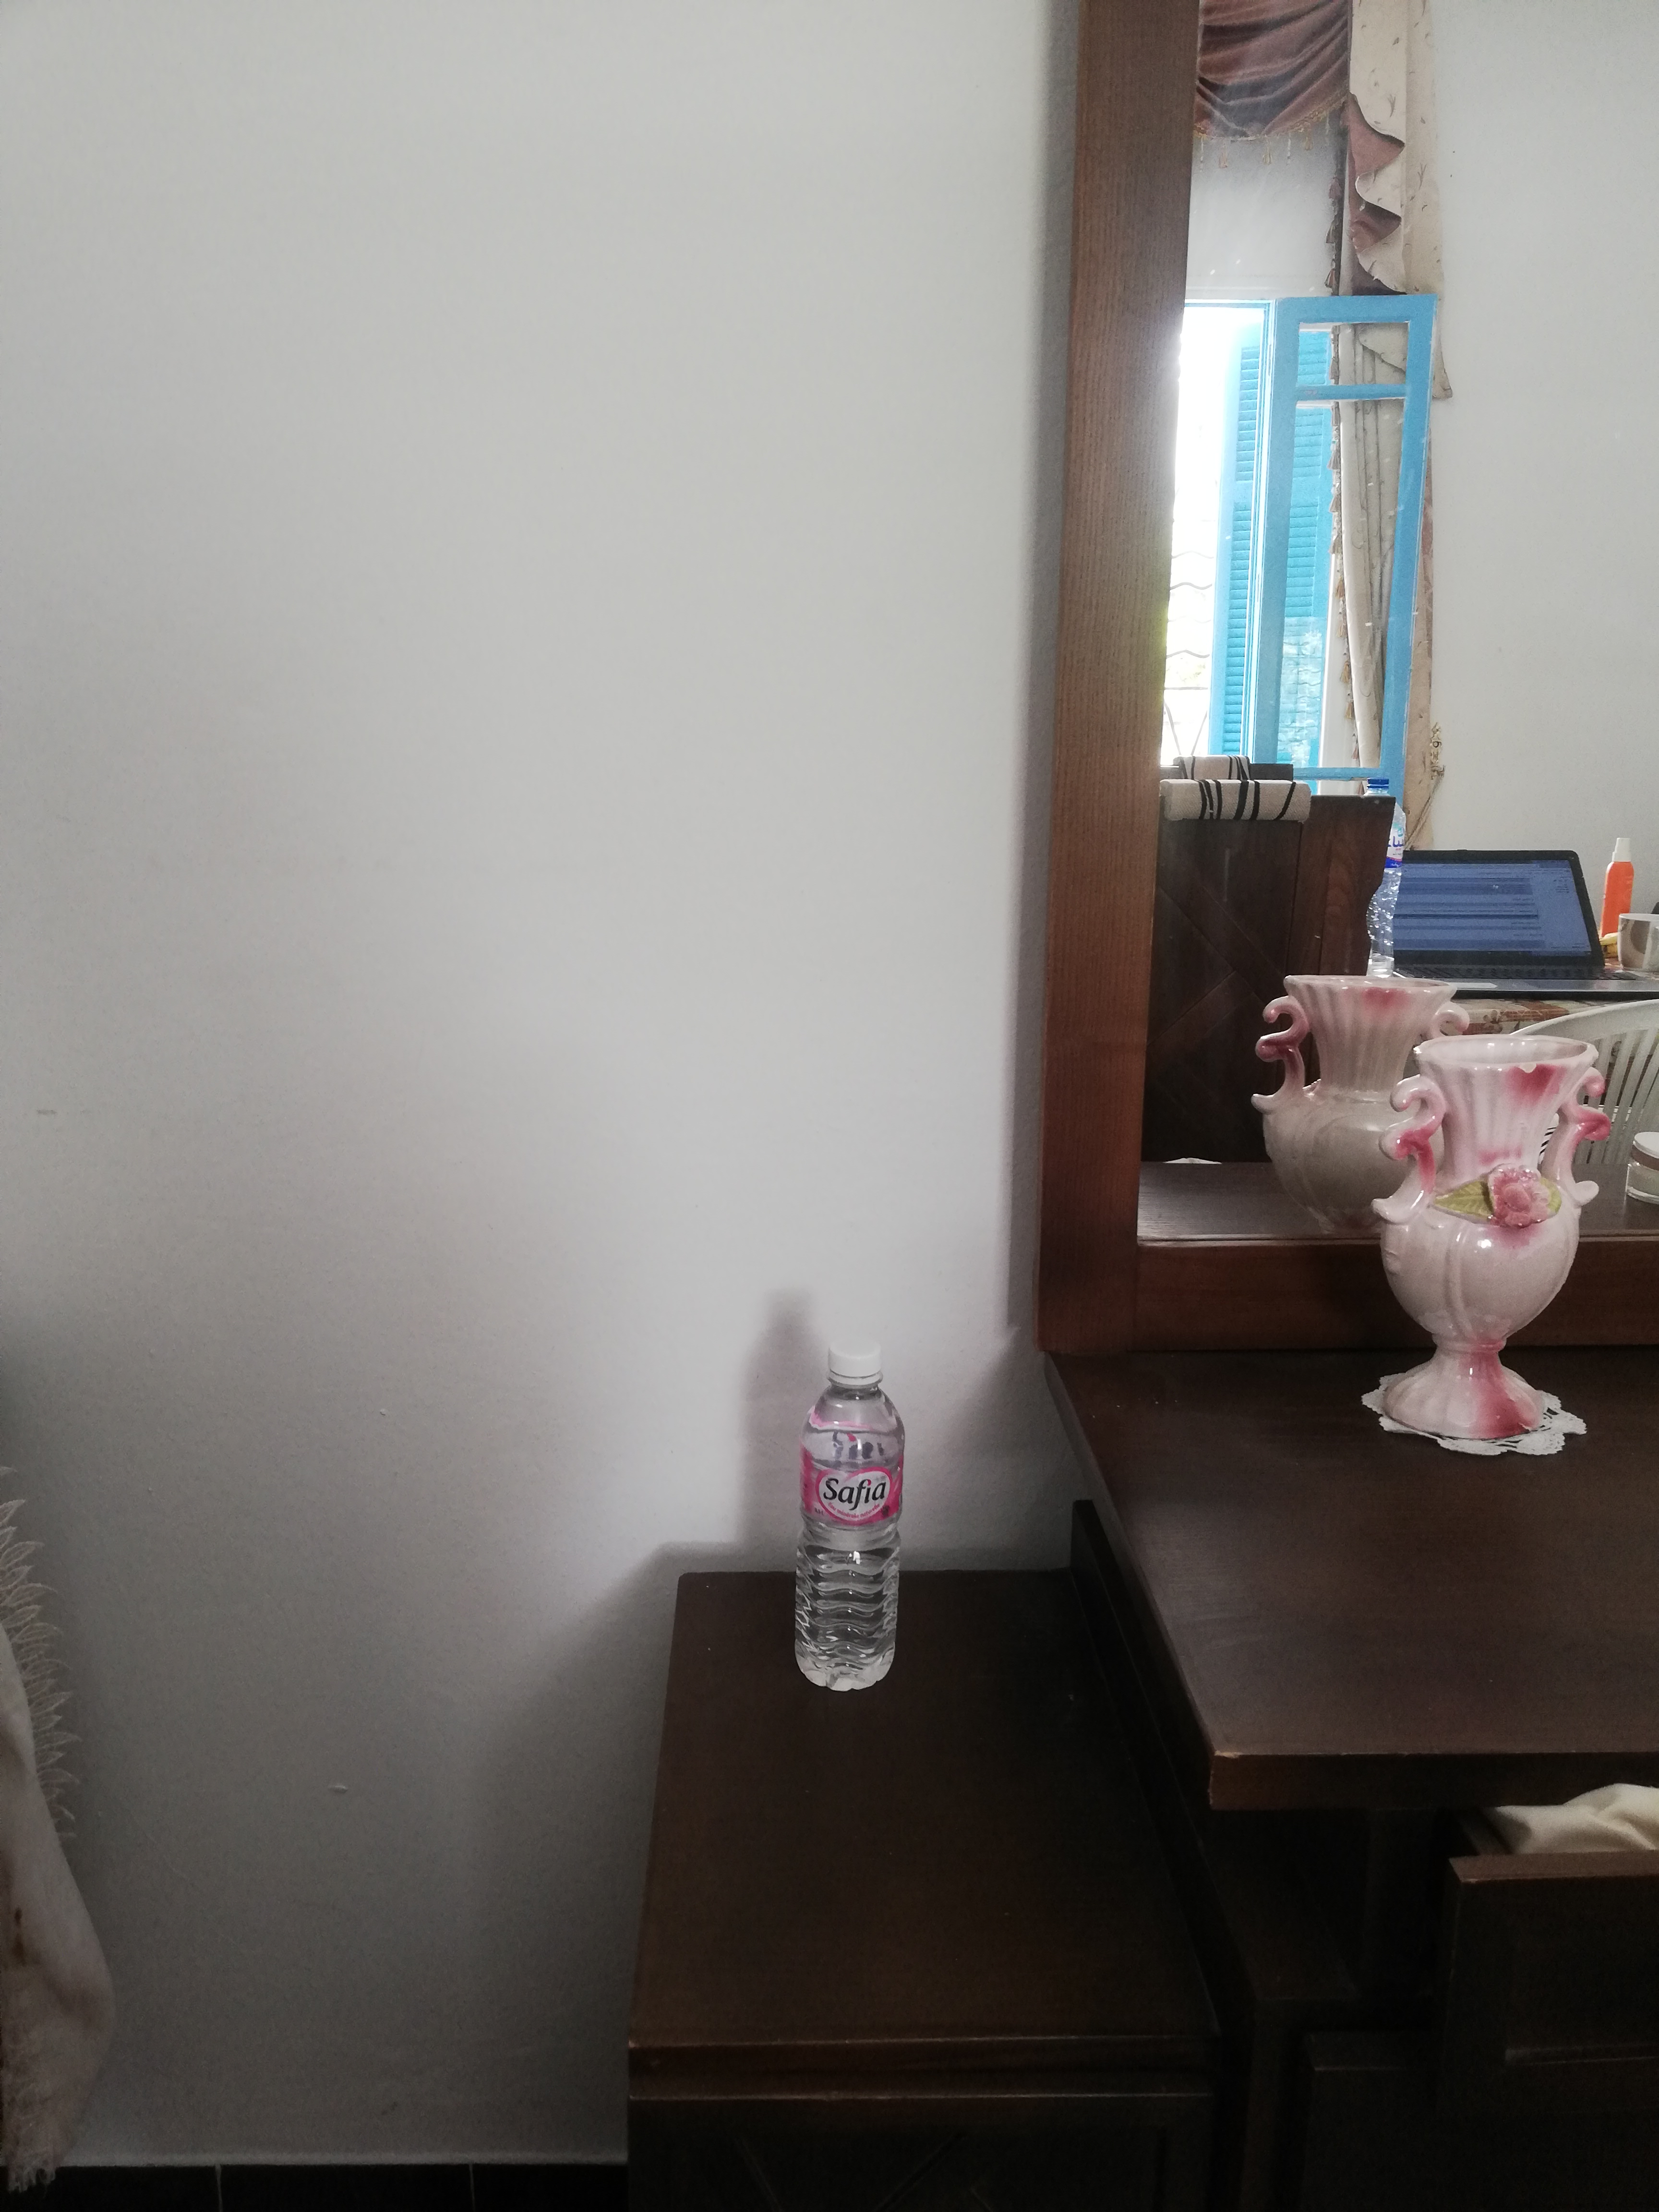Eau safia: (774, 1346, 911, 1693)
